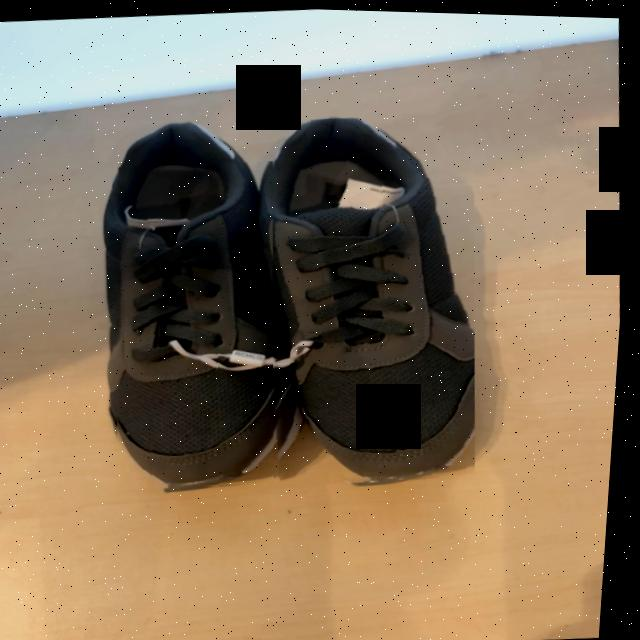shoe: (265, 115, 480, 478), (120, 164, 279, 487)
